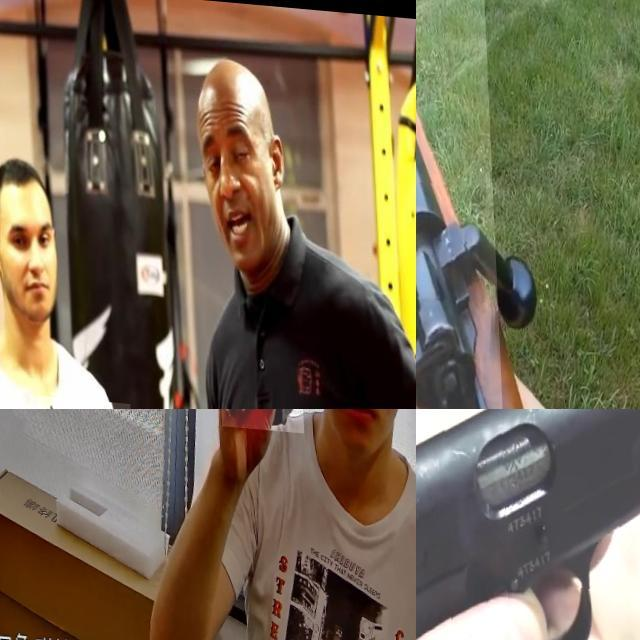gun-knife-thesis - v11 Yolov5 augmented: (416, 409, 640, 640), (416, 0, 526, 409), (209, 409, 300, 547)
